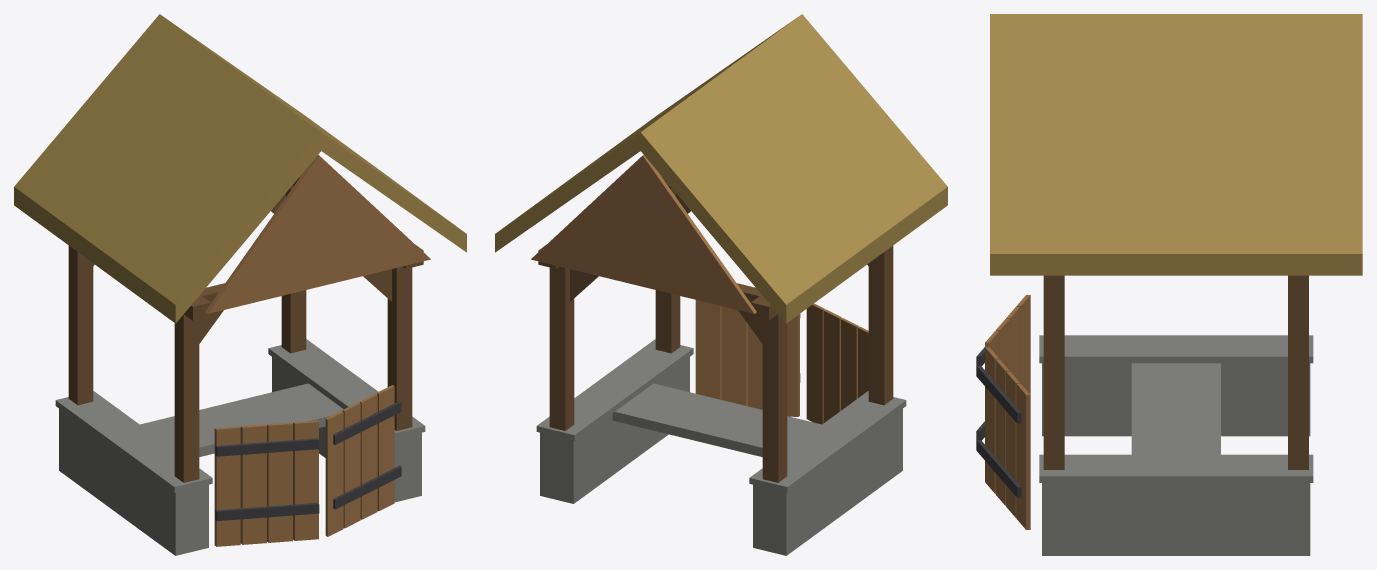
Rendered from Lychgate.fbx.
3 renders of one model, left to right at view 1: azimuth 30°, elevation 25°; view 2: azimuth 150°, elevation 25°; view 3: azimuth 270°, elevation 25°, orthographic. The views are drawn at different scales.
Visible parts, largest first — view 1: Lychgate; view 2: Lychgate; view 3: Lychgate.
Part boxes in pixels (box(x1,y1,x2,y2)): Lychgate: box(14, 14, 466, 555); Lychgate: box(495, 14, 947, 555); Lychgate: box(976, 14, 1362, 555).
Bounding box in the file's own units: 2.6 × 3.5 × 2.59.
